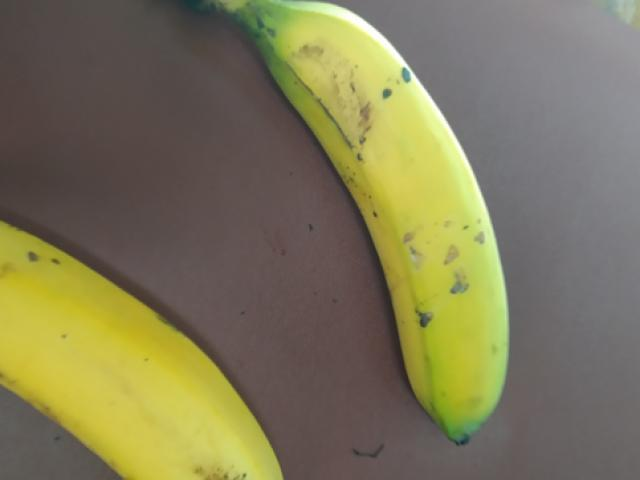freshripe: (10, 212, 323, 479)
ripe: (243, 0, 549, 458)
